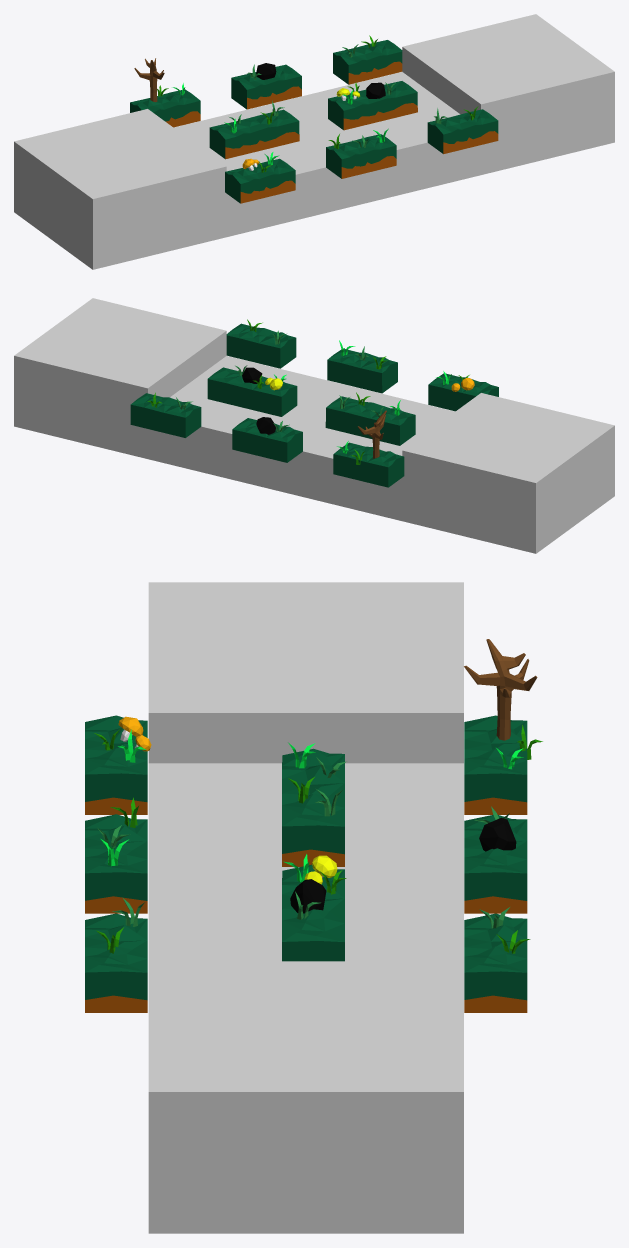
Rendered from VHard_Obstacle_Forest_13.fbx.
3 views of the same model, one above another, from view 1: azimuth 30°, elevation 25°; view 2: azimuth 150°, elevation 25°; view 3: azimuth 270°, elevation 25° (orthographic). The views are drawn at different scales.
Visible parts, largest first — view 1: Cube, Icosphere.024; view 2: Cube, Icosphere.024; view 3: Cube, Icosphere.024.
Boxes of the visible parts, x1,y1,x2,y2 form: Cube: (14,14,614,269); Icosphere.024: (130,35,498,203); Cube: (14,298,614,553); Icosphere.024: (130,319,498,487); Cube: (148,582,463,1233); Icosphere.024: (85,639,542,1012).
Bounding box in the file's own units: 10231 × 2103 × 3897.
